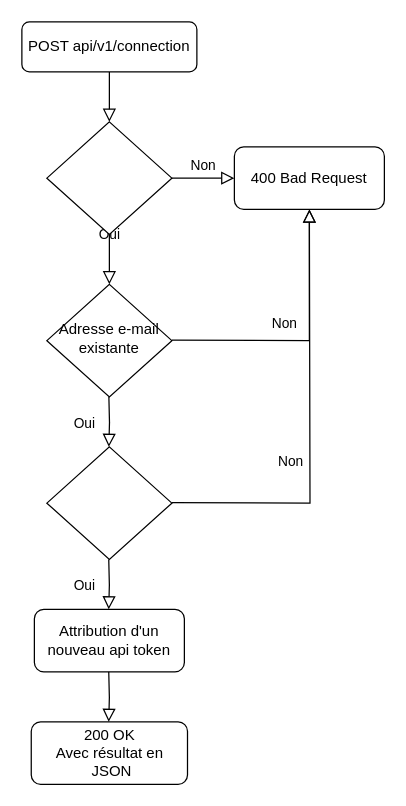
Some shapes in this 406 by 806 pixel diagram are drawn without their labels. Here are the shapes that lost their labels. From the top down, the centre of each, then its label:
[109,177]: Validité des champs
[109,502]: Mot de passe correct
